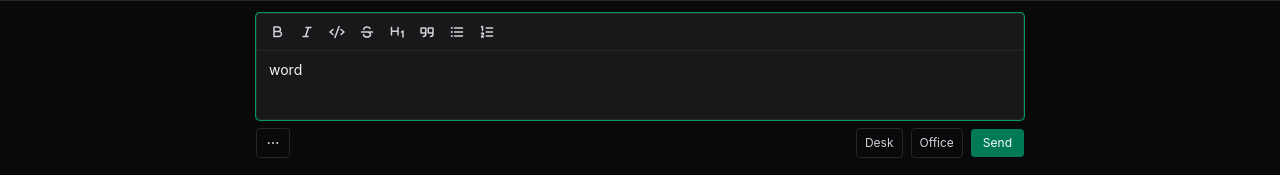
Test: PromptComposer markdown editing › toolbar Bold button wraps the selection
The width and height of the screenshot is (1280, 175).
Click the button named "Bold (Ctrl+B)".
click(277, 32)  # box [263,18,291,46]
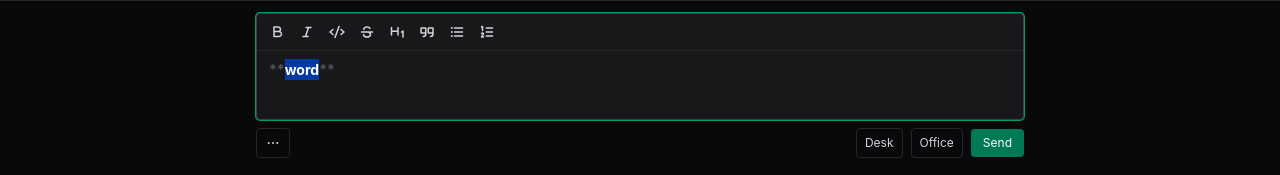
Check: the text box labelled "**word**" is shown, box [269,61,335,78]
